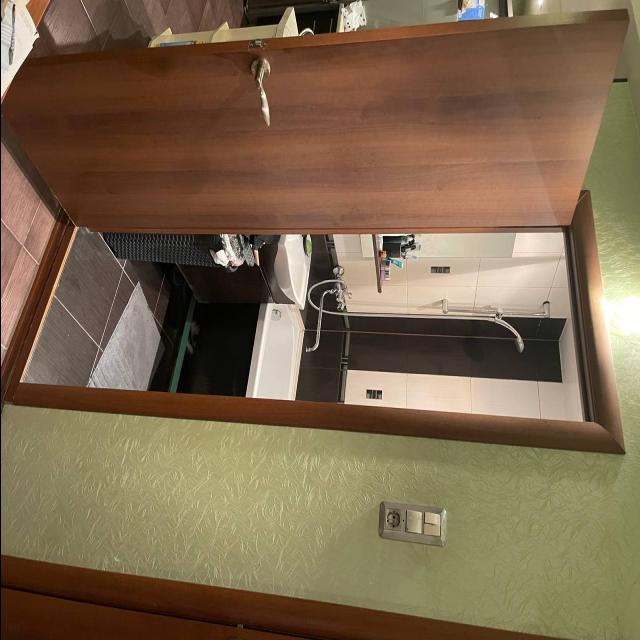open: (19, 35, 608, 421)
